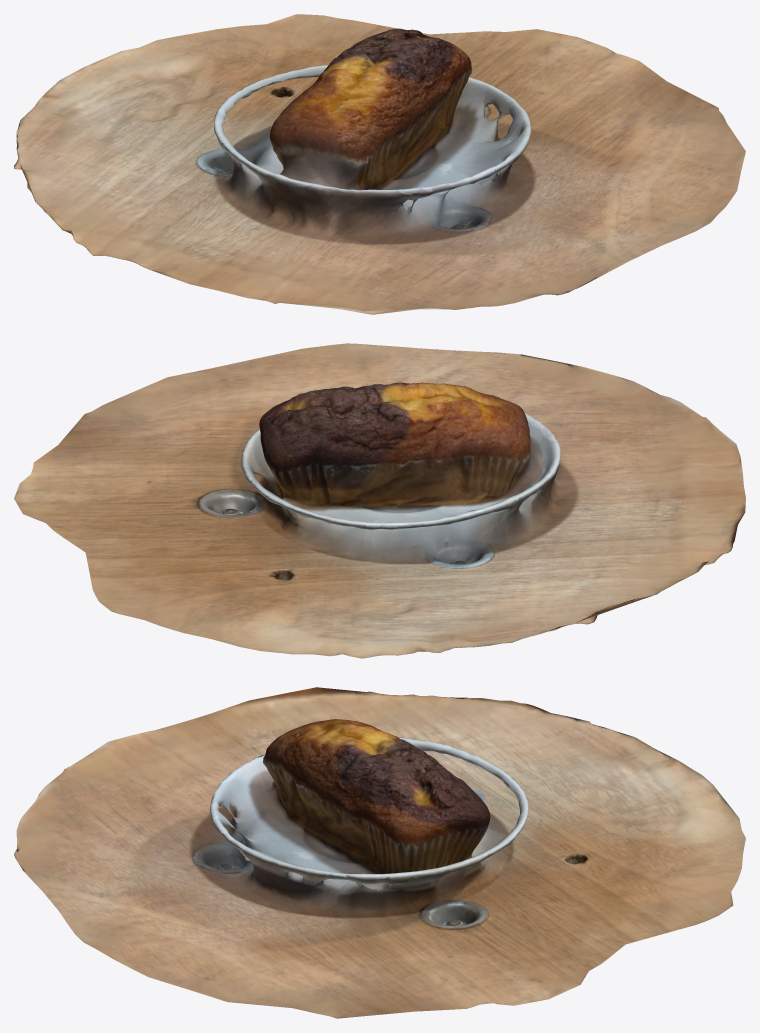
Rendered from polycam_full_m.glb.
3 views of the same model, one above another, from view 1: azimuth 30°, elevation 25°; view 2: azimuth 150°, elevation 25°; view 3: azimuth 270°, elevation 25° (orthographic).
Parts seen in each view (by area): view 1: normalize; view 2: normalize; view 3: normalize.
Part boxes in pixels (box(x1,y1,x2,y2)): normalize: box(14, 14, 745, 314); normalize: box(14, 343, 745, 658); normalize: box(14, 687, 745, 1018).
Bounding box in the file's own units: 0.7946 × 0.1523 × 0.7918.
1 material, 1 textured.
